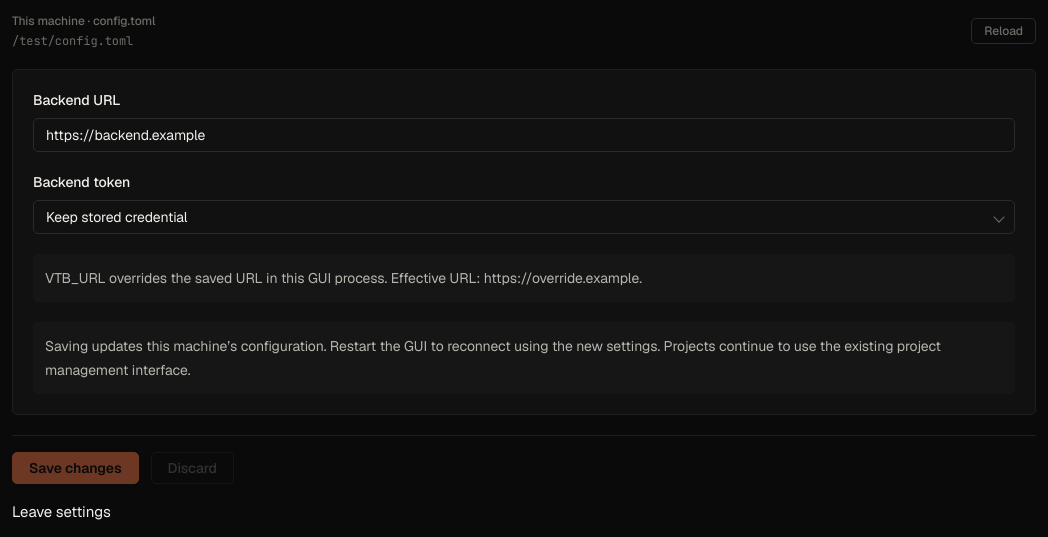
Test case: shared configuration forms › saves a revisioned connection patch while keeping stored credentials
Expected: the text "VTB_URL overrides" shows "https://override.example", top-left (484, 269), bottom-right (639, 287)
Replace the text in the field labelled "Backend URL" with "https://new.example" at (524, 135), box top-left (33, 118), bottom-right (1015, 152)
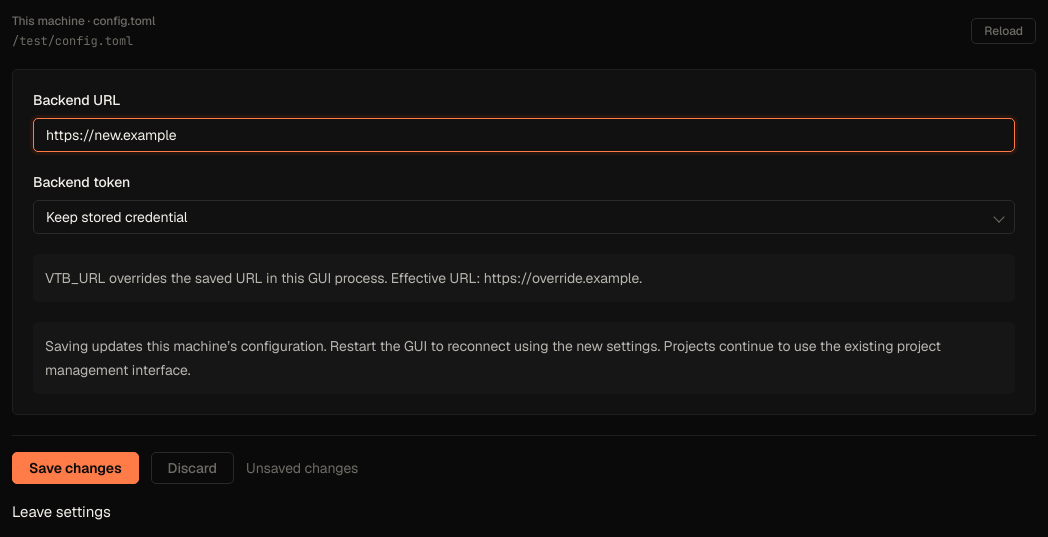
Click the button "Save changes".
click(75, 468)  # box top-left (12, 452), bottom-right (139, 484)
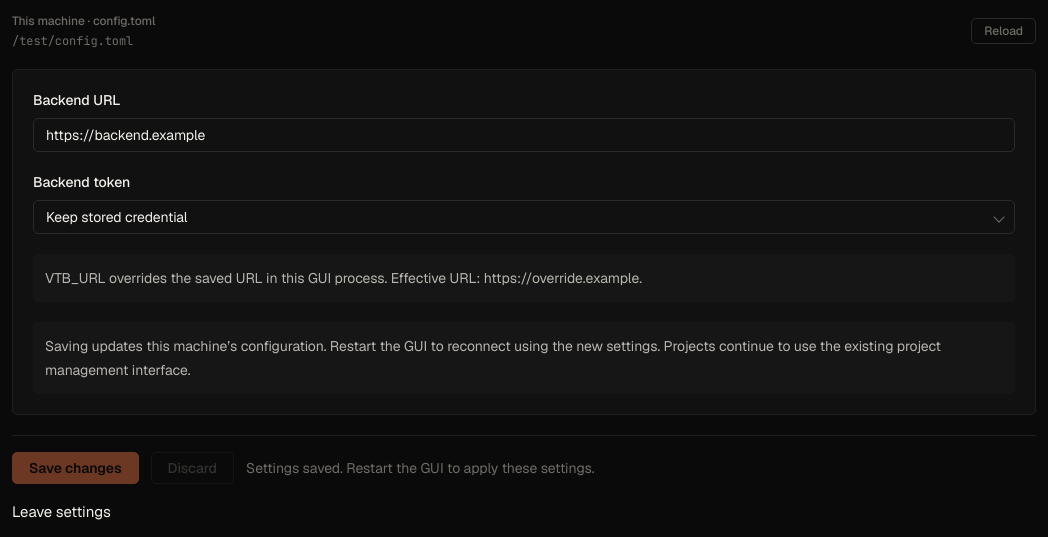
Expected: the text "Settings saved. Restart the GUI to apply these settings." is shown, top-left (246, 458), bottom-right (594, 478)
